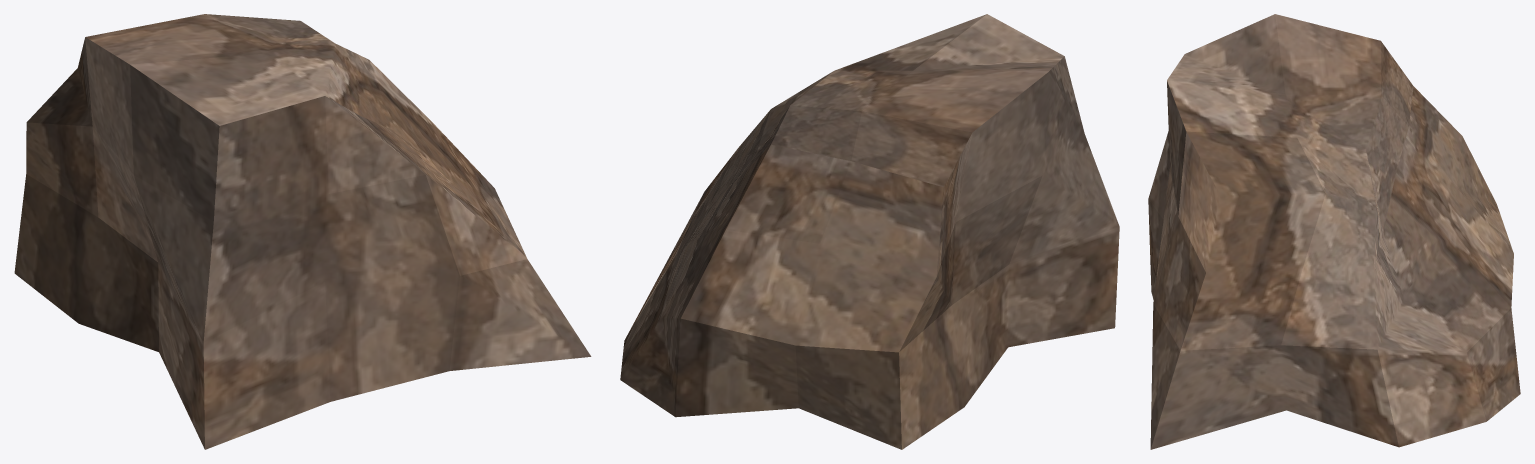
File: rock-s-blocky.glb
3 views of the same model, side by side, from view 1: azimuth 30°, elevation 25°; view 2: azimuth 150°, elevation 25°; view 3: azimuth 270°, elevation 25° (orthographic). The views are drawn at different scales.
Visible parts, largest first — view 1: rock-s-blocky; view 2: rock-s-blocky; view 3: rock-s-blocky.
Boxes of the visible parts, box(x1,y1,x2,y2) form: rock-s-blocky: box(14, 14, 591, 449); rock-s-blocky: box(620, 14, 1119, 449); rock-s-blocky: box(1148, 14, 1520, 449).
Size of the model in its own units: 0.9905 by 0.8077 by 0.9807.
Materials: 1 (1 with a texture image).
